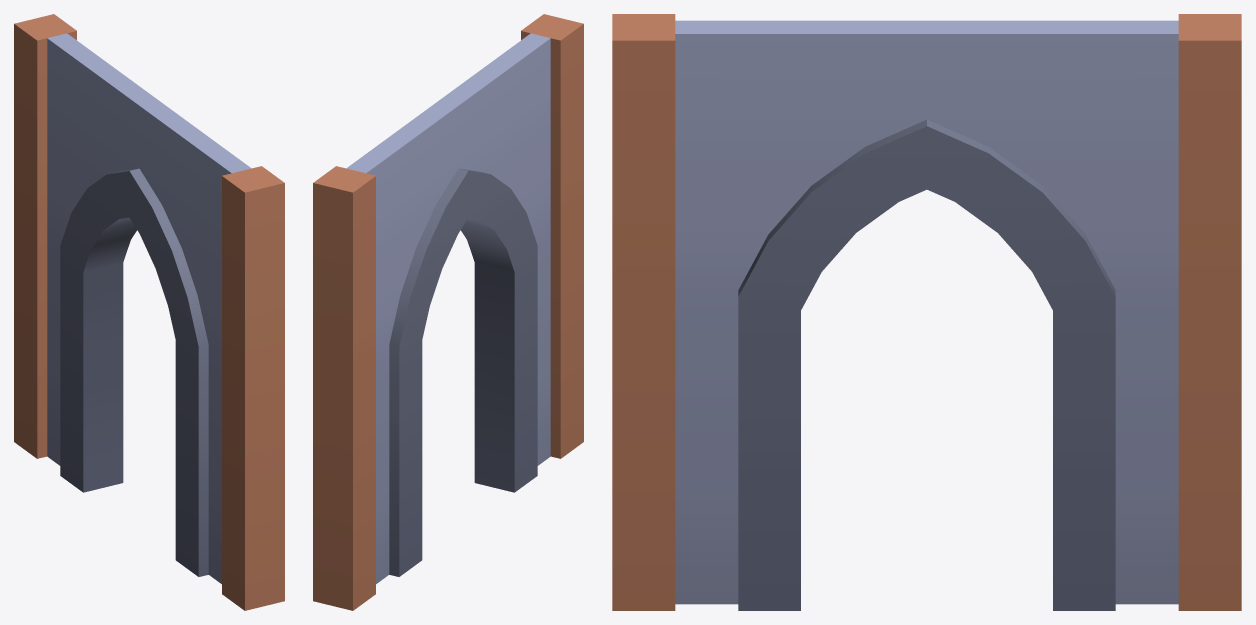
File: wall-doorway-round.glb
3 renders of one model, left to right at view 1: azimuth 30°, elevation 25°; view 2: azimuth 150°, elevation 25°; view 3: azimuth 270°, elevation 25°, orthographic. The views are drawn at different scales.
Parts seen in each view (by area): view 1: wall-doorway-round; view 2: wall-doorway-round; view 3: wall-doorway-round.
Boxes of the visible parts, <box> form: wall-doorway-round: <box>14,14,284,610</box>; wall-doorway-round: <box>313,14,583,610</box>; wall-doorway-round: <box>612,14,1241,610</box>.
Bounding box in the file's own units: 0.1 × 1 × 1.
1 material, 1 textured.
